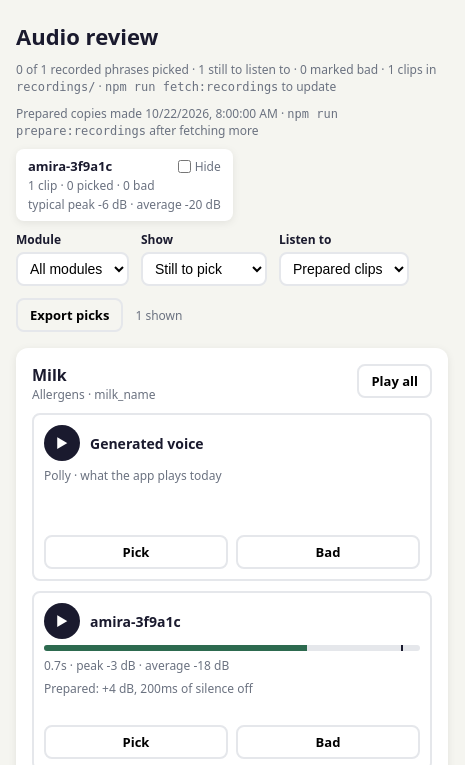
ReviewPage › warns when a decision could not be saved, and keeps it on screen to try again
The width and height of the screenshot is (465, 765).
Check: the text "Milk" is shown, box [32,364,67,386]
Click the button with aria-label "Pick amira-3f9a1c" at (136, 742), box [44,725,228,759]
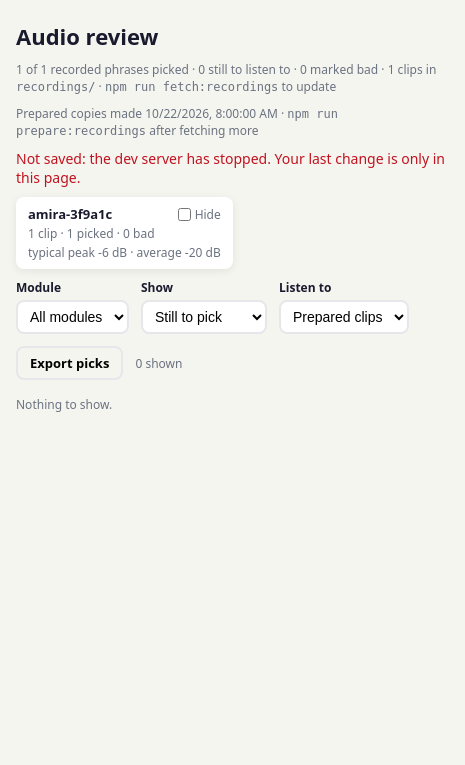
Check: the text "Not saved: the dev server has stopped" is shown, box [16,149,448,187]
Select "Picked" in the dropdown labelled "Show" at (204, 317), box [141,300,267,334]
(page scrolled)
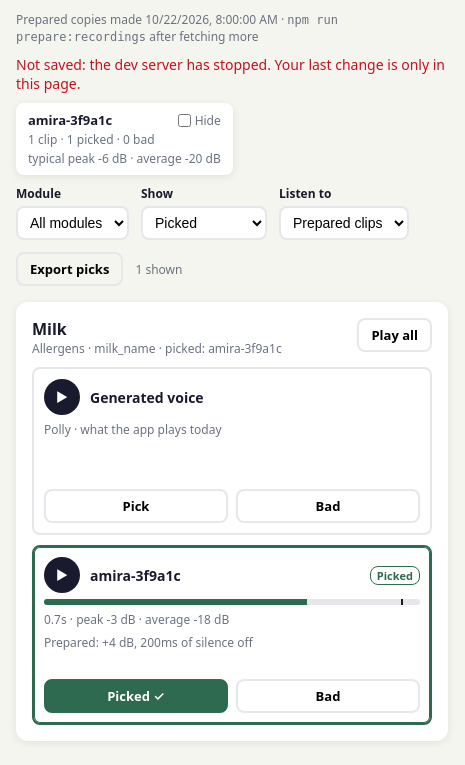
Check: the button "Picked ✓" is shown
Click the button with aria-label "Pick amira-3f9a1c" at (136, 696), box [44,679,228,713]
(page scrolled)
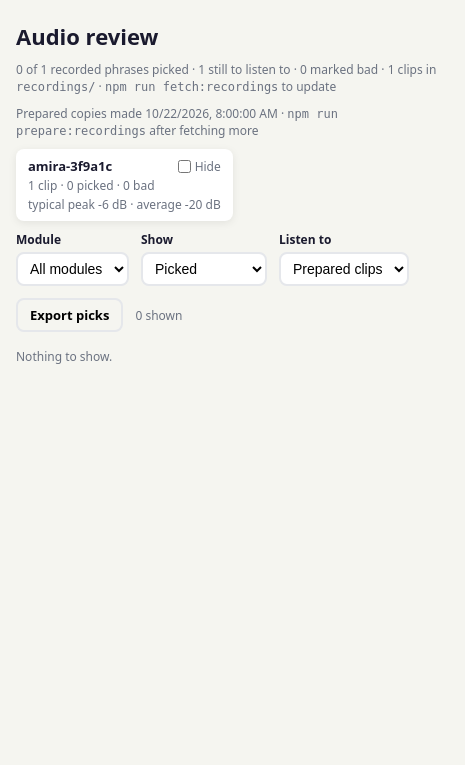
Check: the text "Not saved" is gone
